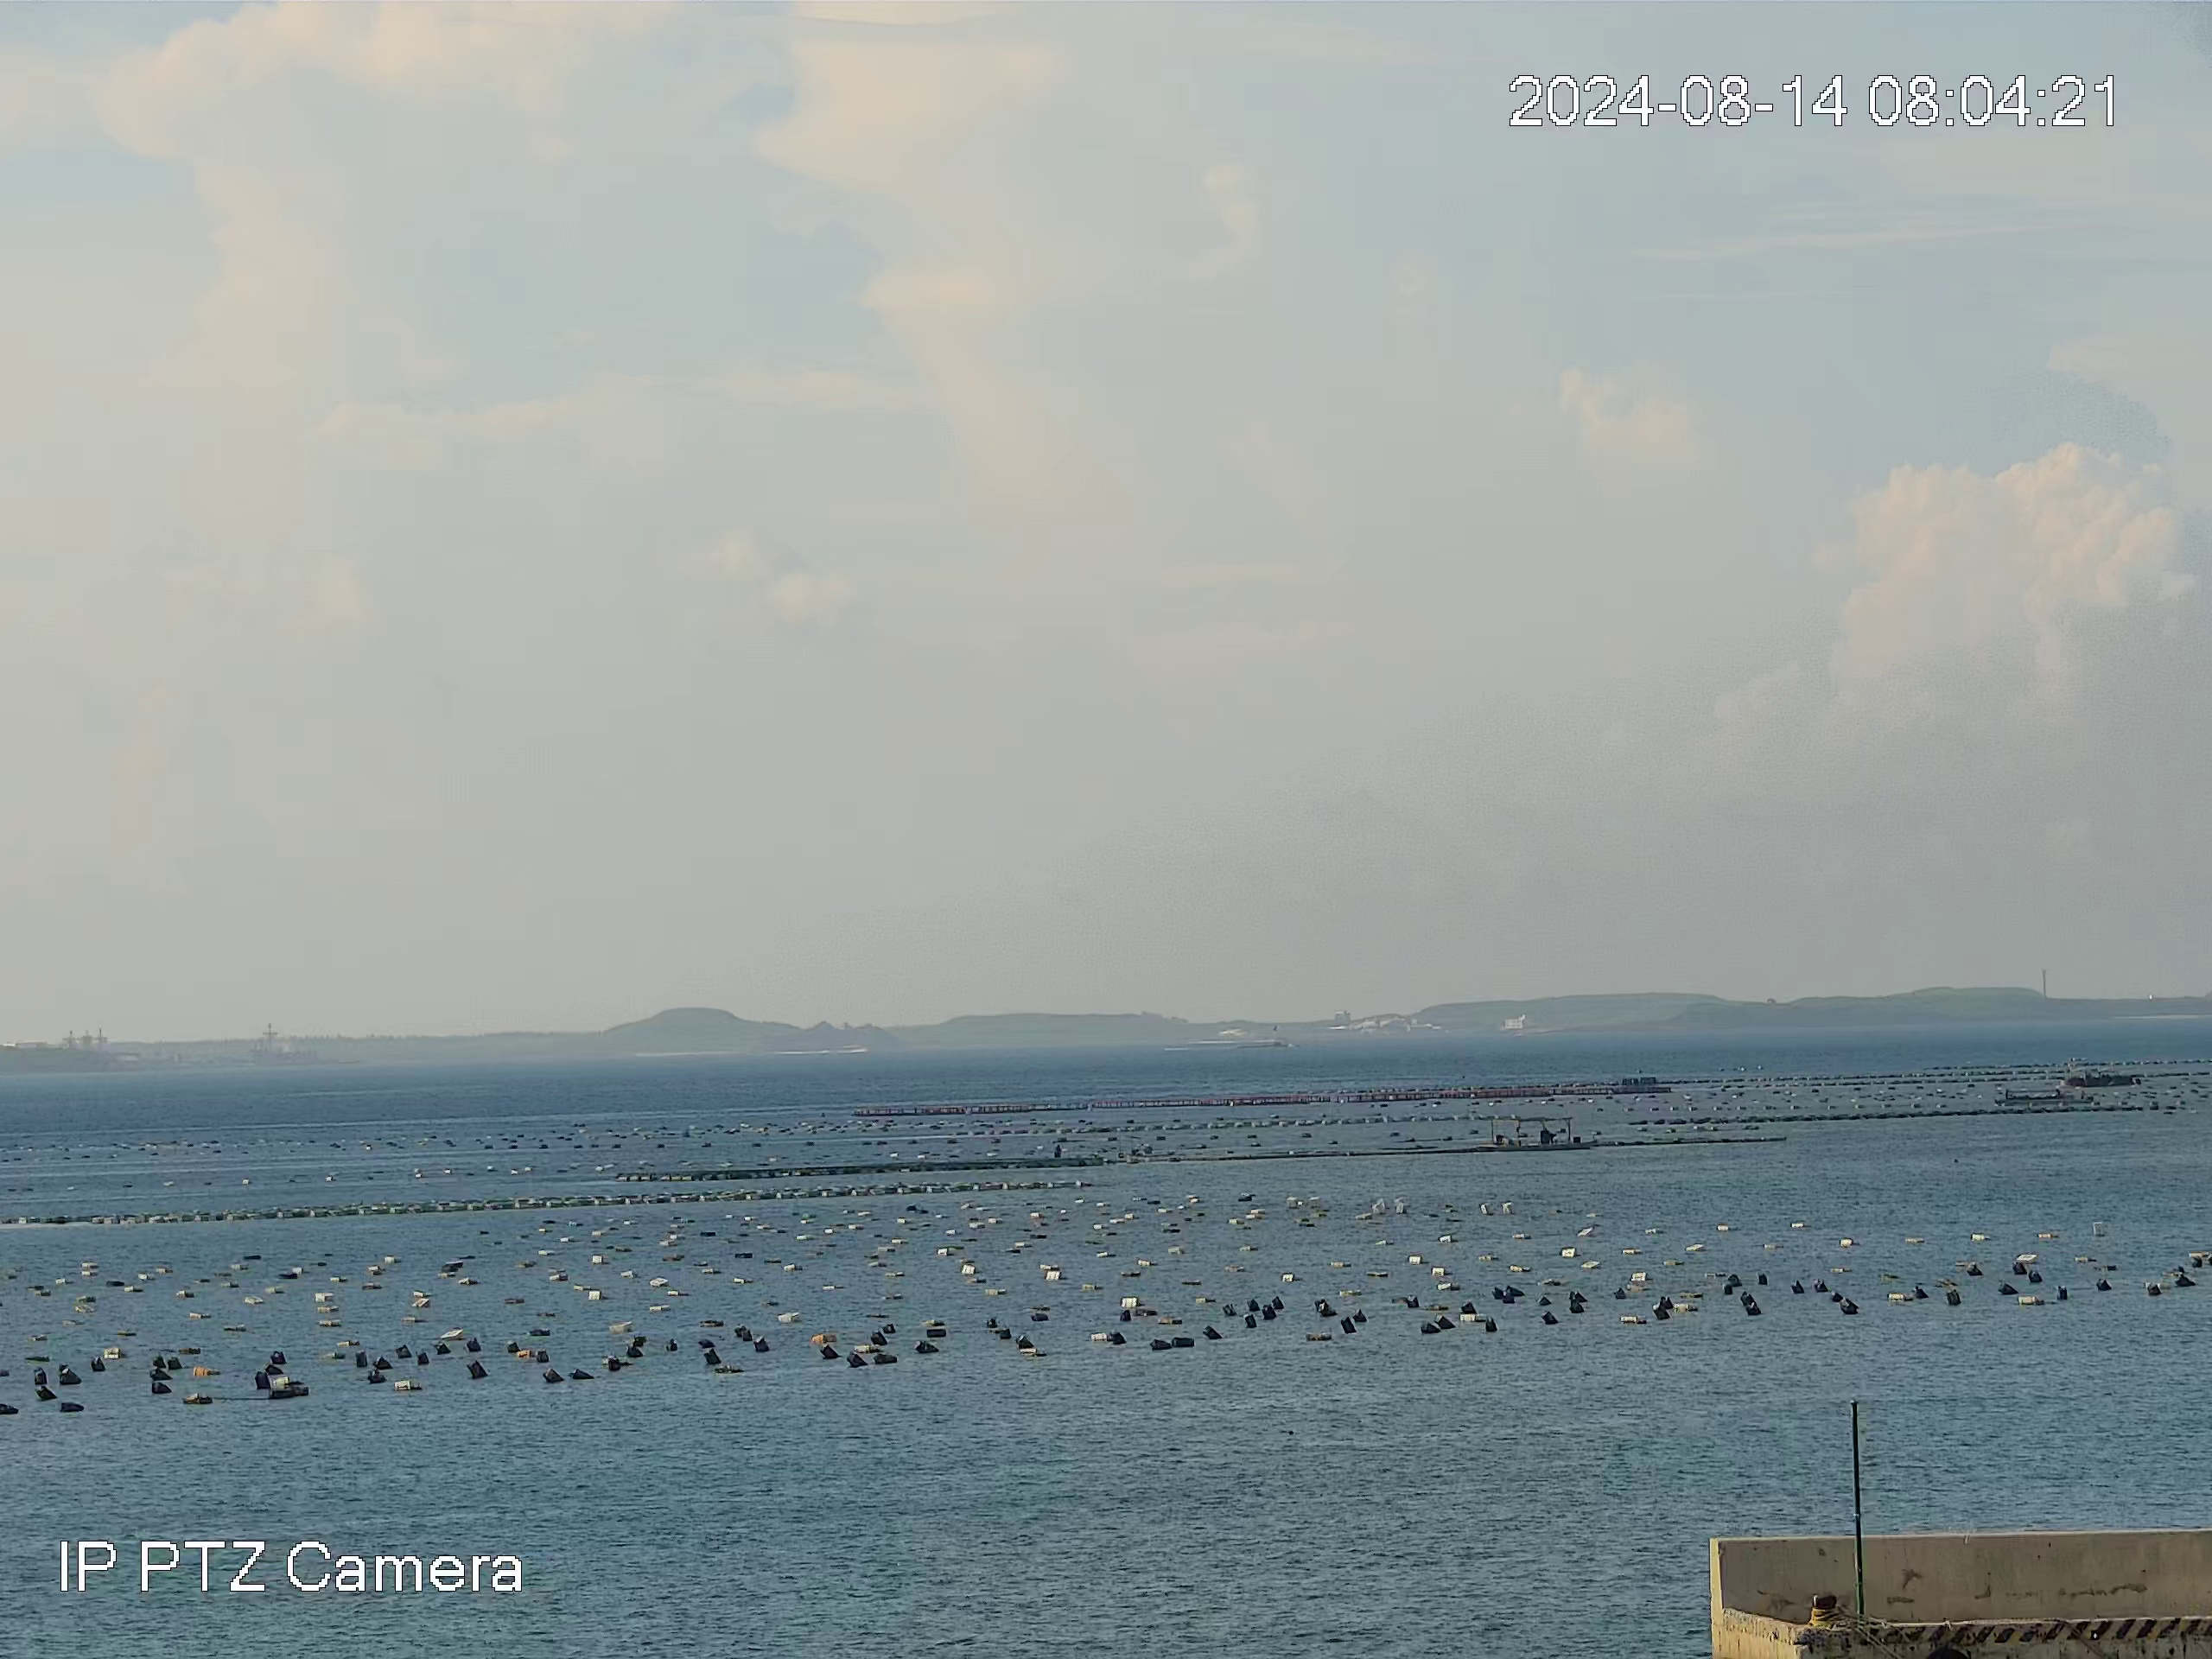boat: (1478, 1110, 1599, 1154), (2065, 1062, 2143, 1087), (1999, 1082, 2076, 1106)
